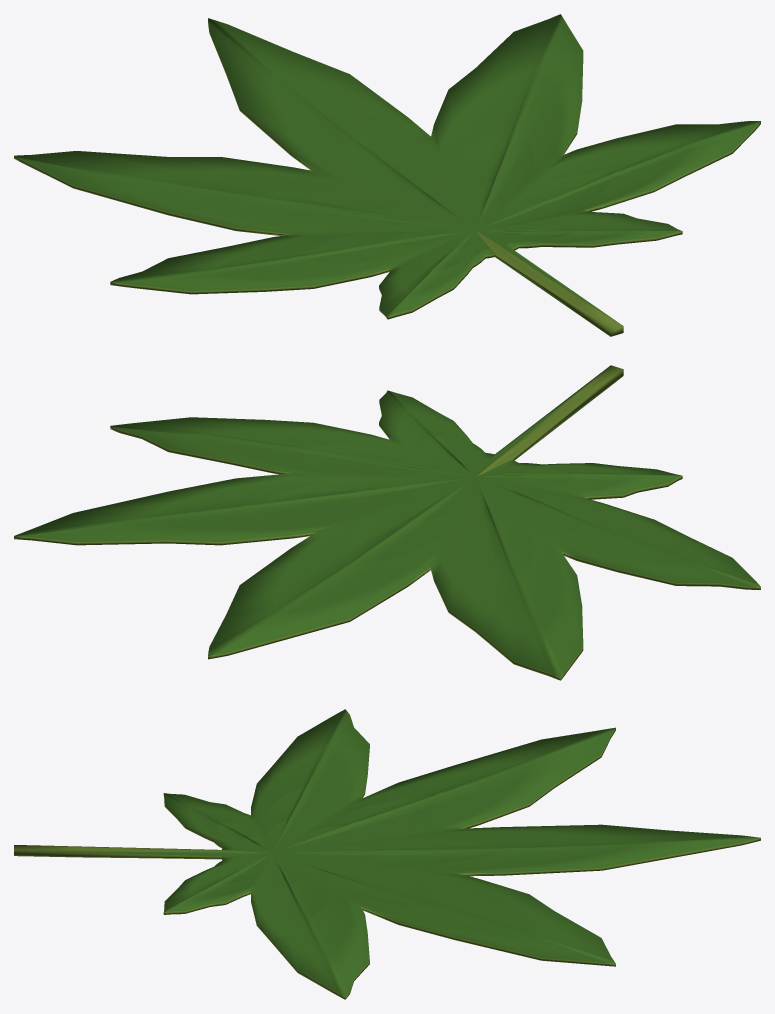
3 views of the same model, one above another, from view 1: azimuth 30°, elevation 25°; view 2: azimuth 150°, elevation 25°; view 3: azimuth 270°, elevation 25° (orthographic). The views are drawn at different scales.
Visible parts, largest first — view 1: NEW330_Maple_leaf_LOD2; view 2: NEW330_Maple_leaf_LOD2; view 3: NEW330_Maple_leaf_LOD2.
Boxes of the visible parts, x1,y1,x2,y2 form: NEW330_Maple_leaf_LOD2: [14, 14, 760, 336]; NEW330_Maple_leaf_LOD2: [14, 365, 760, 680]; NEW330_Maple_leaf_LOD2: [14, 709, 760, 999].
Bounding box in the file's own units: 0.1193 × 0.00476 × 0.13.
